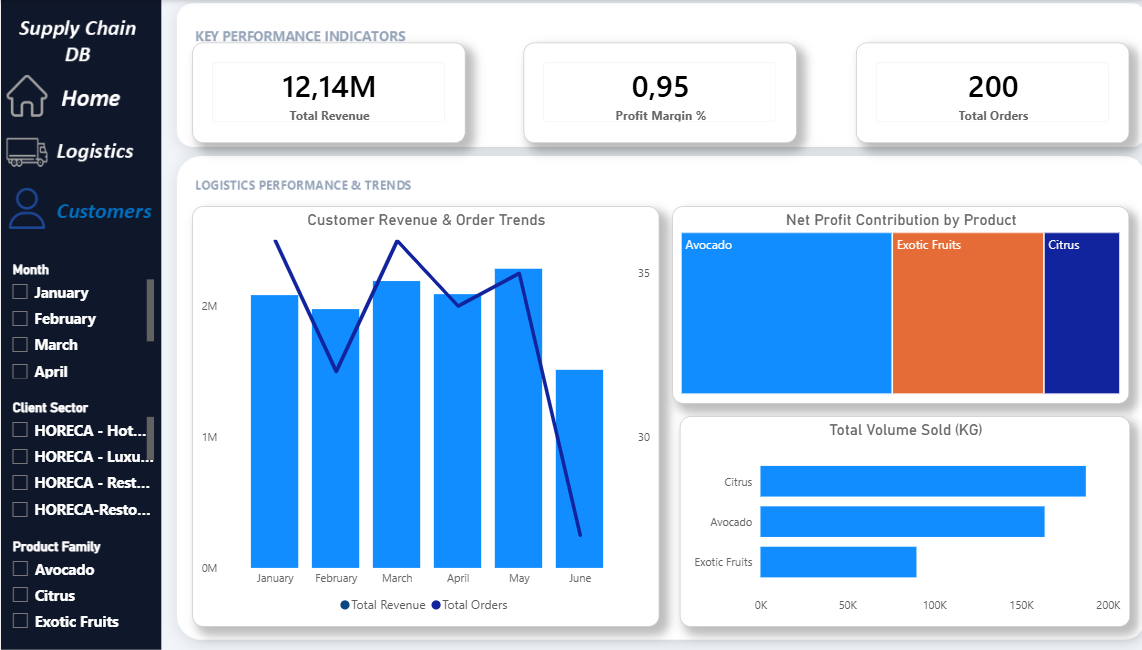

What the dashboard file says about the page in this screenshot:
{"tool":"powerbi","page":{"name":"Customers","canvas":[1280,720],"ordinal":2},"visuals":[{"type":"actionButton","box":[0,145.9,173.1,57.4],"z":0},{"type":"actionButton","box":[0,81.7,173.1,57.4],"z":1000},{"type":"slicer","fields":{"Values":["Dim_Calendar.Nom Mois"]},"box":[0,283,173.1,138.1],"z":2000},{"type":"slicer","fields":{"Values":["Dim_Clients_Costs.Client_Name"]},"box":[0,433.8,173.1,140.1],"z":3000},{"type":"slicer","fields":{"Values":["Fact_Sales_Transactions.Product_Family"]},"box":[0,585.5,173.1,115.7],"z":4000},{"type":"cardVisual","fields":{"Data":["_Measures.Total Revenue"]},"box":[210.4,47,300.3,110.3],"z":5000},{"type":"cardVisual","fields":{"Data":["_Measures.Profit Margin %"]},"box":[573.1,47,300.3,110.3],"z":6000},{"type":"cardVisual","fields":{"Data":["_Measures.Total Orders"]},"box":[938.8,47,300.3,110.3],"z":7000},{"type":"lineClusteredColumnComboChart","title":"Customer Revenue & Order Trends","fields":{"Y":["_Measures.Total Revenue"],"Y2":["_Measures.Total Orders"],"Category":["Dim_Calendar.Nom Mois"]},"box":[210.4,225.8,512.8,461.7],"z":8000},{"type":"treemap","title":"Net Profit Contribution by Product","fields":{"Group":["Fact_Sales_Transactions.Product_Family"],"Values":["_Measures.Net Profit"]},"box":[737.6,225.8,501.6,216.6],"z":9000},{"type":"clusteredBarChart","title":"Total Volume Sold (KG)","fields":{"Category":["Fact_Sales_Transactions.Product_Family"],"Y":["Sum(Fact_Sales_Transactions.Volume_KG)"]},"box":[744.7,456.6,494.4,230.9],"z":10000}]}

Visuals, with their boxes in screenshot pixels (x1, y1, x2, y2), scaled from the page's 1280x720 canvas onto the 1142x650 screenshot:
actionButton: 0/132/154/184
actionButton: 0/74/154/126
slicer - Dim_Calendar.Nom Mois: 0/255/154/380
slicer - Dim_Clients_Costs.Client_Name: 0/392/154/518
slicer - Fact_Sales_Transactions.Product_Family: 0/529/154/633
cardVisual - _Measures.Total Revenue: 188/42/456/142
cardVisual - _Measures.Profit Margin %: 511/42/779/142
cardVisual - _Measures.Total Orders: 838/42/1106/142
"Customer Revenue & Order Trends" lineClusteredColumnComboChart: 188/204/645/621
"Net Profit Contribution by Product" treemap: 658/204/1106/399
"Total Volume Sold (KG)" clusteredBarChart: 664/412/1106/621
